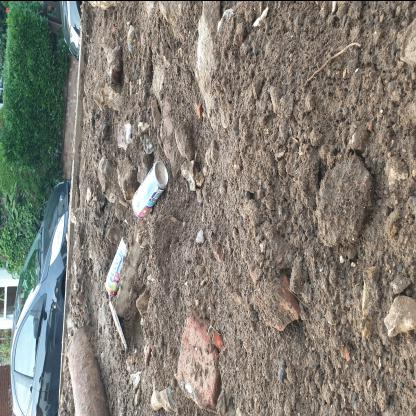metal: (132, 161, 168, 218), (105, 236, 130, 296)
